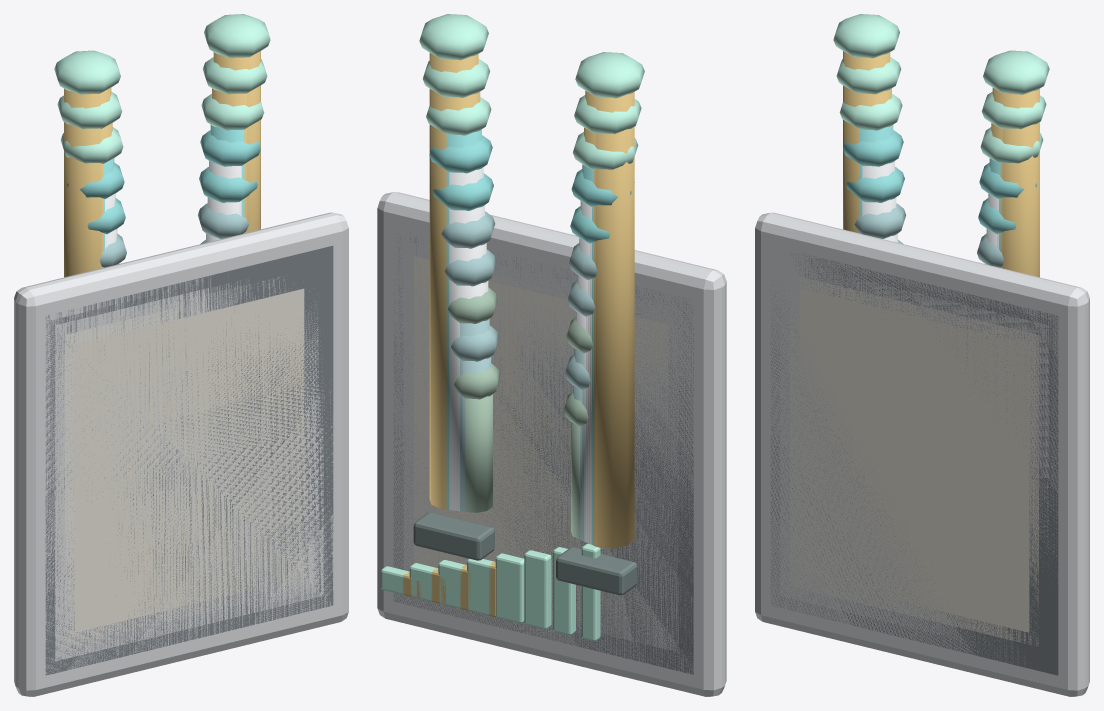
Rendered from Gear04.fbx.
3 renders of one model, left to right at view 1: azimuth 30°, elevation 25°; view 2: azimuth 150°, elevation 25°; view 3: azimuth 330°, elevation 25°, orthographic. The views are drawn at different scales.
Parts seen in each view (by area): view 1: Gear04_V2_Ivory, Gear04_V10_Platinum, Gear04_V8_Graphite, Gear04_V6_Platinum, Gear04_V4_Linen, Gear04_V5_Platinum, Gear04_V10_Gold, Gear04_V9_Platinum, Gear04_V1_Ivory, Gear04_V10_Glow, Gear04_V9_Glow, Gear04_V7_Graphite (+8 smaller); view 2: Gear04_V10_Platinum, Gear04_V8_Graphite, Gear04_V10_Gold, Gear04_V1_Ivory, Gear04_V4_Linen, Gear04_V5_Platinum, Gear04_V3_Linen, Gear04_V10_Glow, Gear04_V6_Platinum, Gear04_V1_Sage, Gear04_V9_Glow, Gear04_V8_Glow (+21 smaller); view 3: Gear04_V10_Platinum, Gear04_V2_Ivory, Gear04_V8_Graphite, Gear04_V4_Linen, Gear04_V6_Platinum, Gear04_V10_Gold, Gear04_V10_Glow, Gear04_V1_Ivory, Gear04_V9_Glow, Gear04_V8_Glow, Gear04_V7_Graphite, Gear04_V7_Aqua (+6 smaller).
Part boxes in pixels (<box>): Gear04_V2_Ivory: <box>74,288,304,632</box>; Gear04_V10_Platinum: <box>14,212,348,696</box>; Gear04_V8_Graphite: <box>45,245,333,675</box>; Gear04_V6_Platinum: <box>55,197,323,661</box>; Gear04_V4_Linen: <box>65,301,313,646</box>; Gear04_V5_Platinum: <box>60,233,318,628</box>; Gear04_V10_Gold: <box>64,51,260,277</box>; Gear04_V9_Platinum: <box>40,238,337,624</box>; Gear04_V1_Ivory: <box>79,329,299,591</box>; Gear04_V10_Glow: <box>54,14,270,94</box>; Gear04_V9_Glow: <box>57,57,267,129</box>; Gear04_V7_Graphite: <box>50,281,328,641</box>; Gear04_V10_Platinum: <box>377,192,726,696</box>; Gear04_V8_Graphite: <box>393,238,693,674</box>; Gear04_V10_Gold: <box>429,53,634,548</box>; Gear04_V1_Ivory: <box>429,280,657,621</box>; Gear04_V4_Linen: <box>414,256,672,626</box>; Gear04_V5_Platinum: <box>409,243,678,652</box>; Gear04_V3_Linen: <box>419,264,668,567</box>; Gear04_V10_Glow: <box>381,14,644,639</box>; Gear04_V6_Platinum: <box>403,205,683,625</box>; Gear04_V1_Sage: <box>454,363,588,539</box>; Gear04_V9_Glow: <box>386,59,641,641</box>; Gear04_V8_Glow: <box>390,97,638,635</box>; Gear04_V10_Platinum: <box>755,212,1089,696</box>; Gear04_V2_Ivory: <box>799,288,1029,632</box>; Gear04_V8_Graphite: <box>770,253,1058,675</box>; Gear04_V4_Linen: <box>790,276,1038,646</box>; Gear04_V6_Platinum: <box>780,197,1048,642</box>; Gear04_V10_Gold: <box>843,51,1039,277</box>; Gear04_V10_Glow: <box>833,14,1049,94</box>; Gear04_V1_Ivory: <box>804,328,1024,598</box>; Gear04_V9_Glow: <box>836,57,1046,129</box>; Gear04_V8_Glow: <box>839,94,1043,163</box>; Gear04_V7_Graphite: <box>776,261,1053,610</box>; Gear04_V7_Aqua: <box>843,130,1037,198</box>.
Bounding box in the file's own units: 59.84 × 106 × 13.94.
